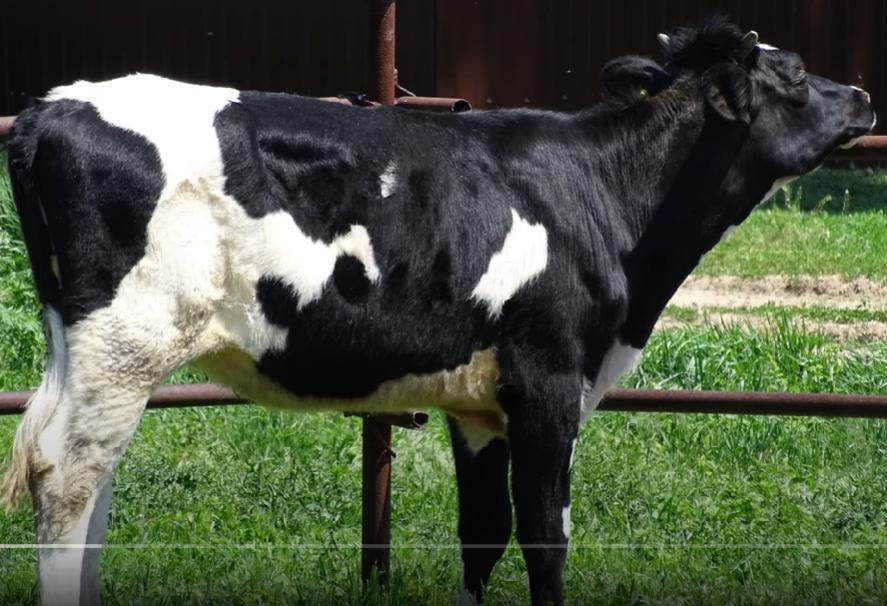cow: (2, 18, 876, 606)
